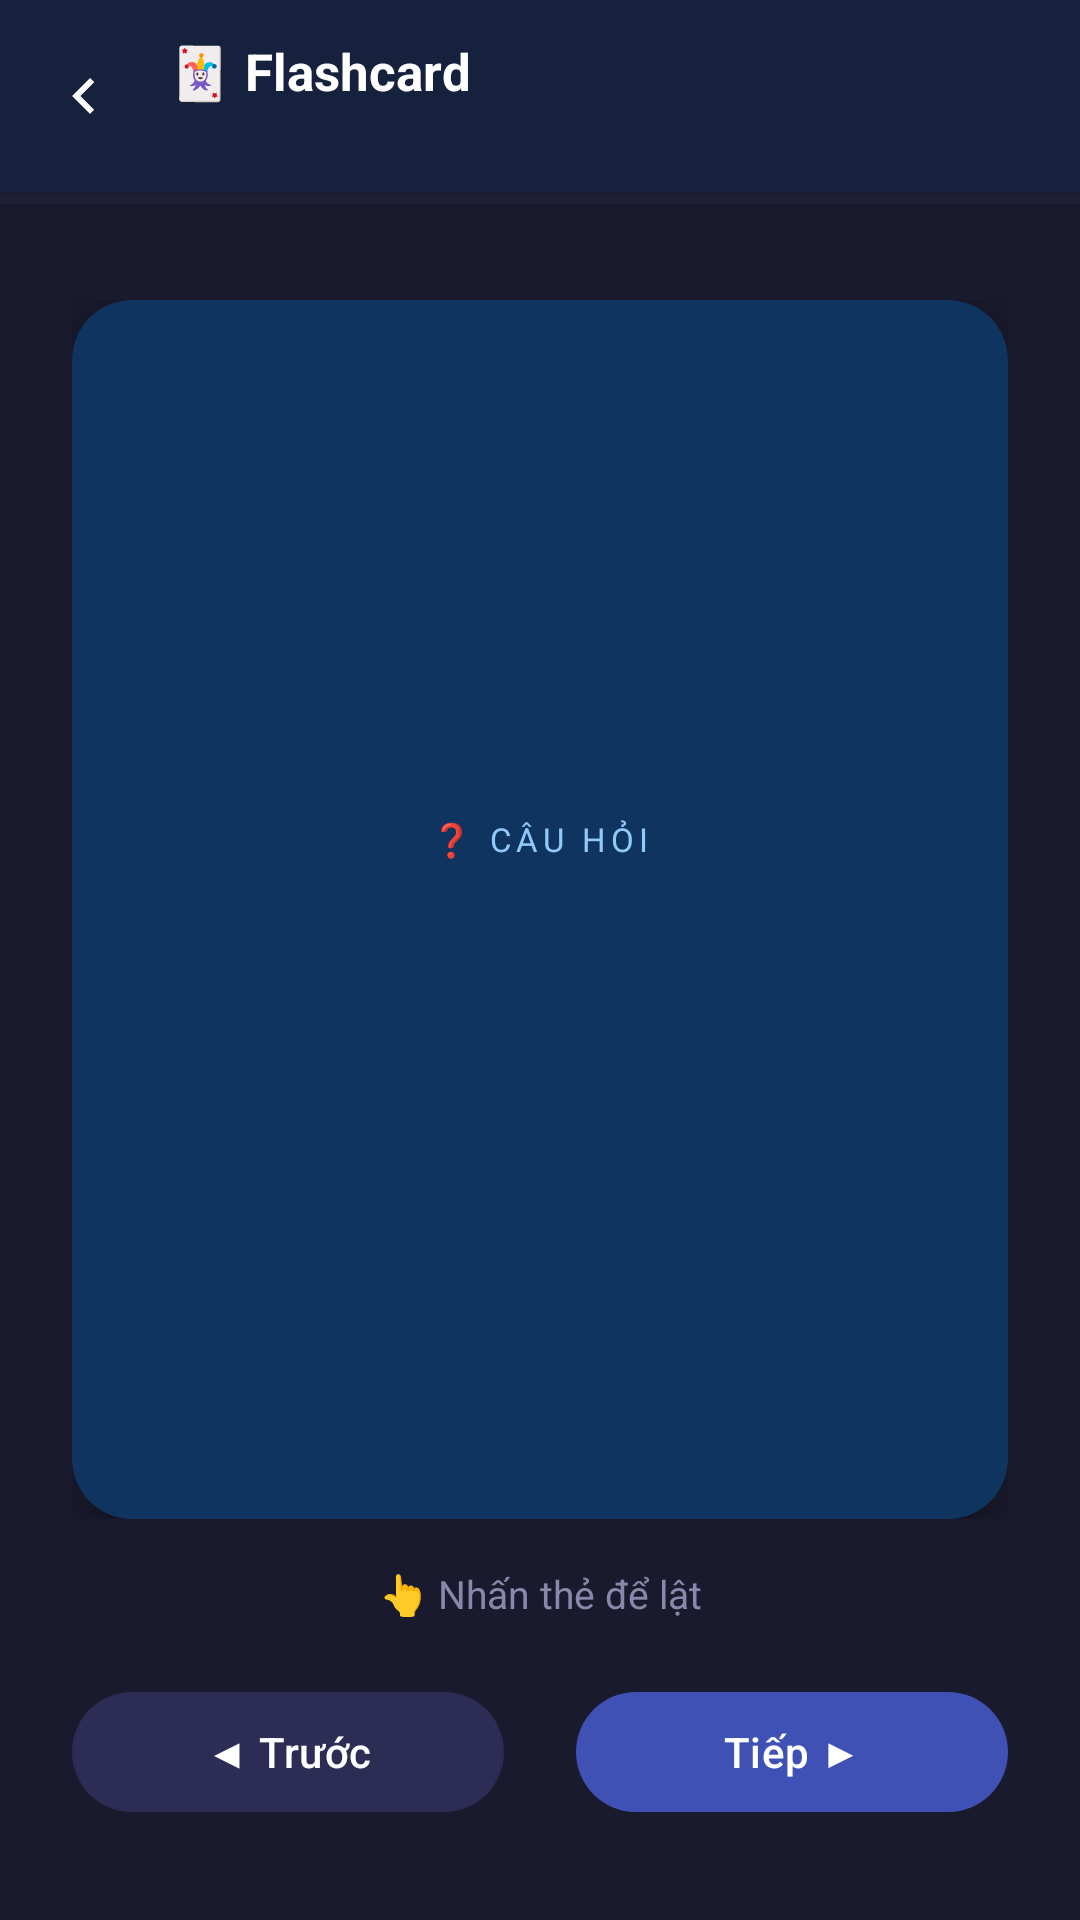

Point at icon controls on the screen. Image size 1080w x 1920h, points as [x,y].
Quay lại: [83,96]
